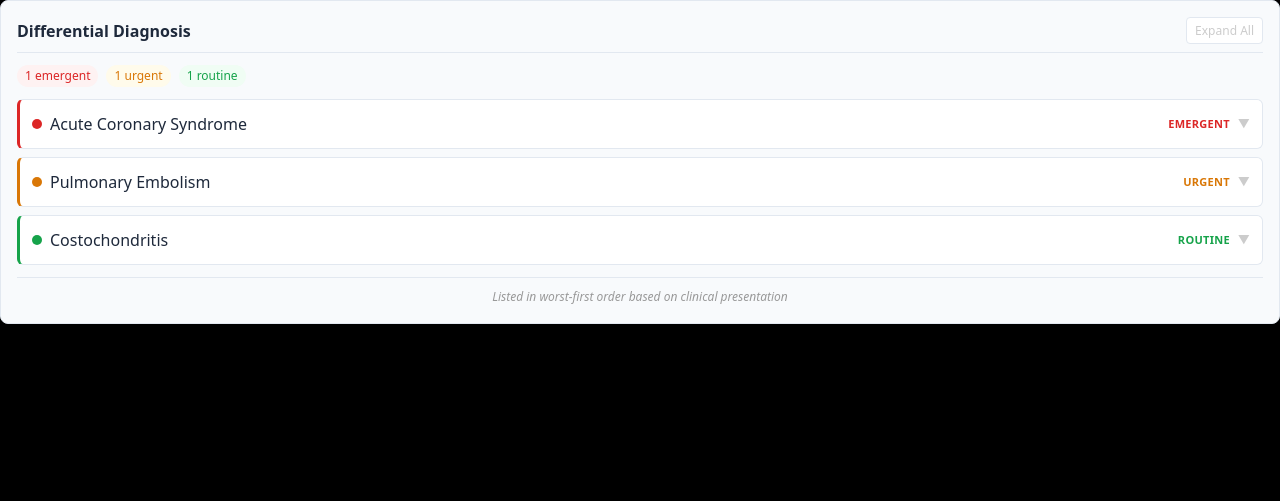
Test: DifferentialList › sets aria-expanded on header buttons
Note: Expand first one
Step 1. Click the button "Acute Coronary Syndrome Emergent ▼" → click(148, 124), box [20, 100, 1262, 148]
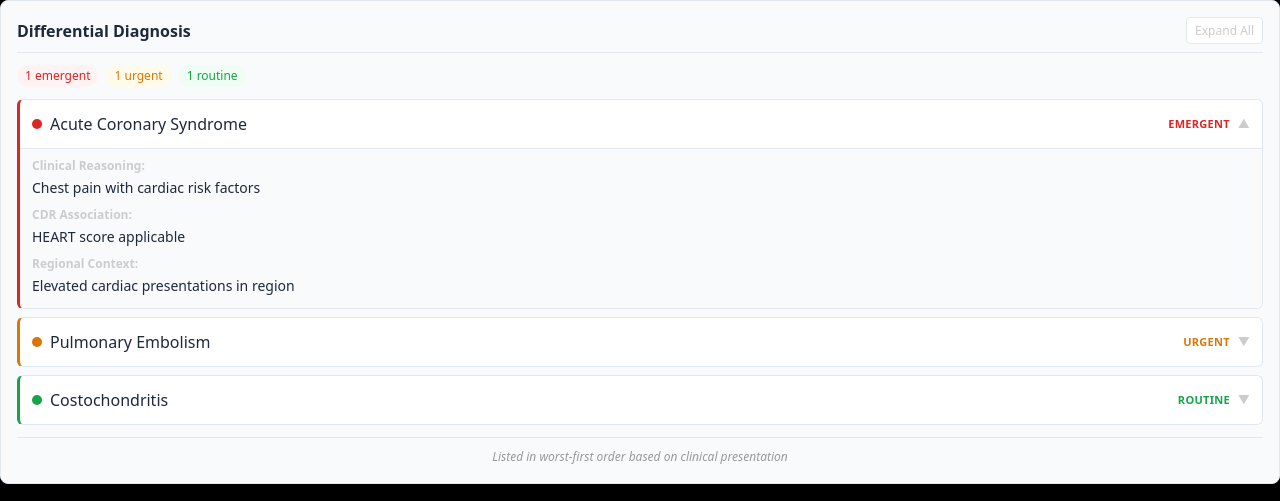
Check: the button "Acute Coronary Syndrome Emergent ▲" is expanded, box [20, 100, 1262, 148]
